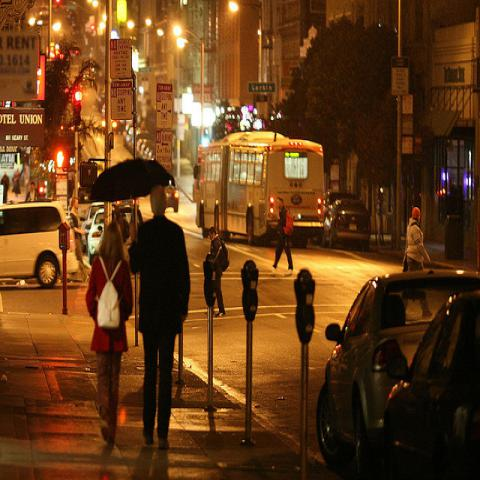bus: (193, 131, 324, 248)
car: (315, 268, 479, 479), (382, 288, 480, 479), (0, 196, 78, 288), (322, 199, 370, 248), (81, 202, 104, 252), (86, 208, 103, 262), (165, 185, 180, 212), (136, 140, 150, 156)
